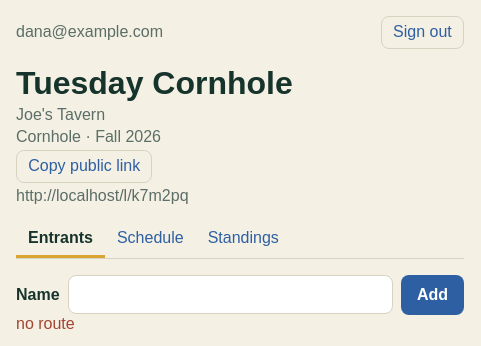
Test case: the league home shows name, location, sport · season and copies the public link
Expected: the heading "Tuesday Cornhole" is shown, [16,65,293,101]
Expected: the text "Joe's Tavern" is shown, [16,106,105,123]
Click the button "Copy public link" at (84, 166), box [16,150,152,183]
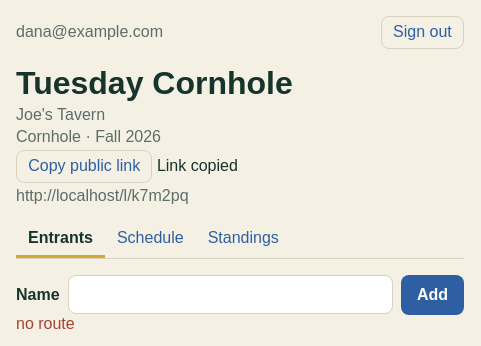
Expected: the text "Link copied" is shown, [157,157,238,174]
